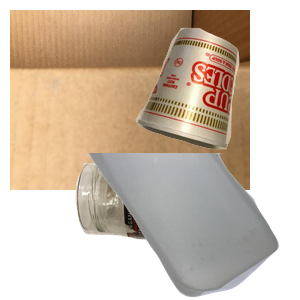cardboard: (10, 10, 250, 190)
glass: (73, 153, 284, 300)
plastic: (84, 153, 300, 300)
trash: (133, 25, 300, 167)
